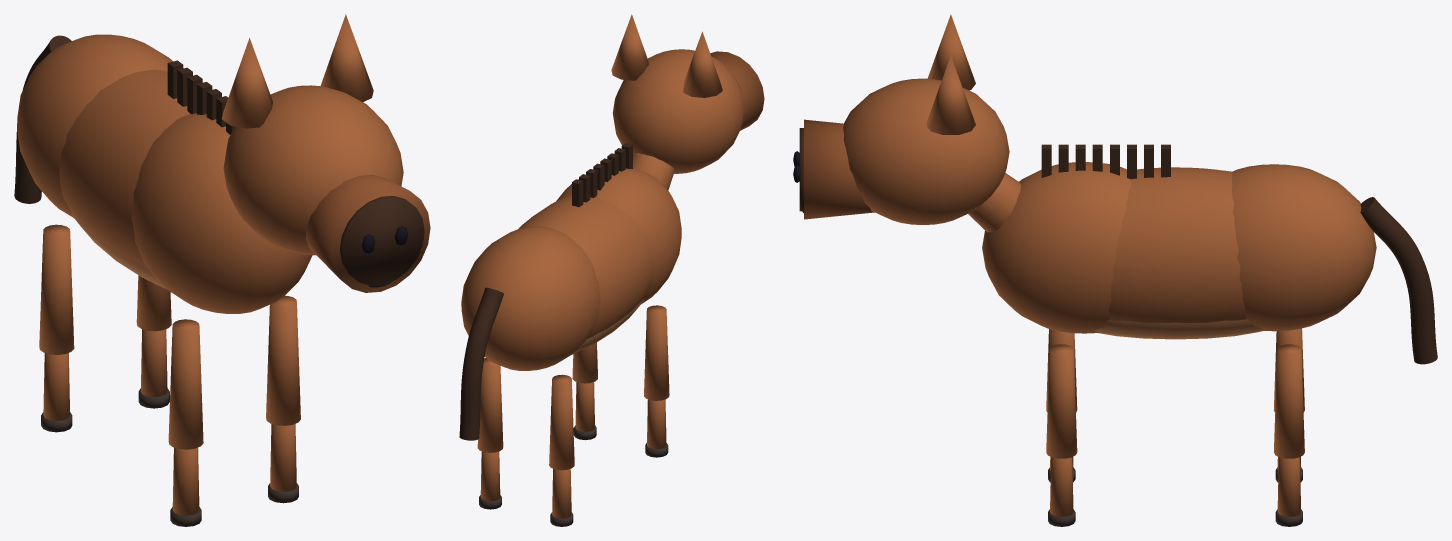
File: horse.glb
3 renders of one model, left to right at view 1: azimuth 30°, elevation 25°; view 2: azimuth 150°, elevation 25°; view 3: azimuth 270°, elevation 25°, orthographic. The views are drawn at different scales.
Visible parts, largest first — view 1: body, head, legFR, legBR, legFL, legBL, earR, earL, tail; view 2: body, head, legFR, legBR, tail, legBL, legFL, earR, earL; view 3: body, head, legFL, legBL, tail, earL, earR, legBR, legFR.
Part boxes in pixels (x1,y1,x2,y2): body: (17, 34, 312, 313); head: (223, 85, 430, 292); legFR: (168, 319, 203, 526); legBR: (39, 224, 74, 432); legFL: (266, 295, 300, 503); legBL: (136, 275, 171, 408); earR: (221, 38, 272, 128); earL: (320, 14, 373, 101); tail: (14, 35, 71, 203); body: (461, 143, 681, 370); head: (612, 49, 764, 173); legFR: (644, 305, 669, 457); legBR: (549, 374, 574, 526); tail: (459, 287, 503, 440); legBL: (477, 358, 503, 509); legFL: (572, 342, 597, 440); earR: (683, 31, 722, 97); earL: (611, 14, 648, 80); body: (968, 144, 1376, 339); head: (793, 78, 1009, 224); legFL: (1046, 344, 1077, 526); legBL: (1274, 344, 1304, 526); tail: (1360, 197, 1437, 364); earL: (926, 56, 975, 134); earR: (927, 14, 975, 90); legBR: (1273, 328, 1304, 482); legFR: (1046, 329, 1077, 482).
Bounding box in the file's own units: 0.8 × 2.57 × 3.23.
